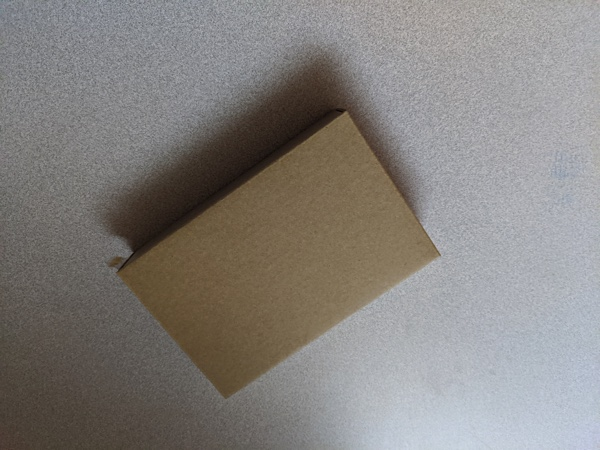cardboard: (100, 97, 450, 407)
